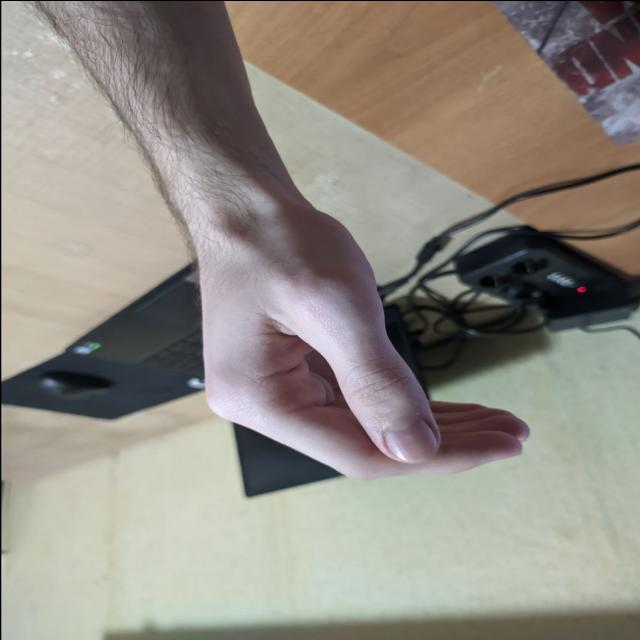f: (181, 217, 551, 553)
